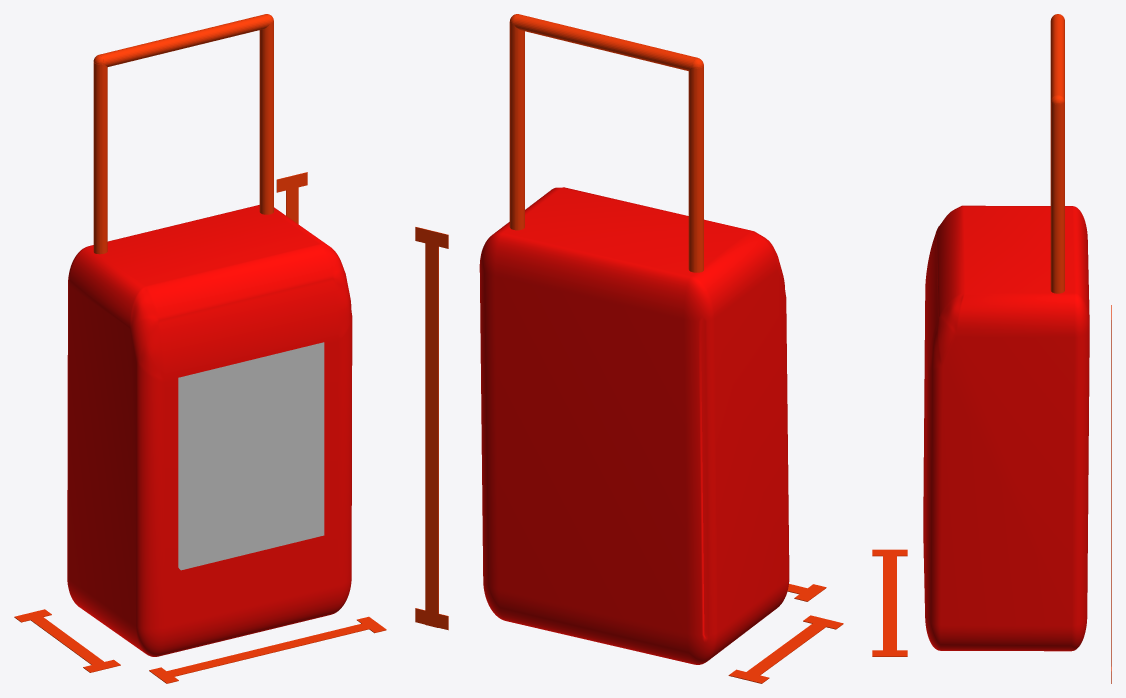
Rendered from suitcase_red.obj.
3 renders of one model, left to right at view 1: azimuth 30°, elevation 25°; view 2: azimuth 150°, elevation 25°; view 3: azimuth 270°, elevation 25°, orthographic. The views are drawn at different scales.
Visible parts, largest first — view 1: Cube, logo_Untitled-2-01, handle_Sphere, ruler_y_Plane.007, ruler_x_Plane.005, ruler_z_Plane.002; view 2: Cube, handle_Sphere, ruler_z_Plane.002, ruler_x_Plane.005; view 3: Cube, handle_Sphere, ruler_y_Plane.007, ruler_z_Plane.002.
Part boxes in pixels (left/top/right/bottom): Cube: left=67, top=205, right=352, bottom=656; logo_Untitled-2-01: left=178, top=342, right=324, bottom=570; handle_Sphere: left=93, top=14, right=273, bottom=254; ruler_y_Plane.007: left=149, top=616, right=386, bottom=683; ruler_x_Plane.005: left=14, top=609, right=120, bottom=672; ruler_z_Plane.002: left=276, top=172, right=307, bottom=224; Cube: left=479, top=187, right=789, bottom=664; handle_Sphere: left=509, top=14, right=703, bottom=272; ruler_z_Plane.002: left=415, top=227, right=448, bottom=630; ruler_x_Plane.005: left=728, top=615, right=843, bottom=683; Cube: left=923, top=205, right=1089, bottom=651; handle_Sphere: left=1050, top=14, right=1064, bottom=293; ruler_y_Plane.007: left=872, top=549, right=907, bottom=656; ruler_z_Plane.002: left=1111, top=305, right=1111, bottom=683.
Size of the model in its own units: 0.4995 by 0.8708 by 0.3395.
